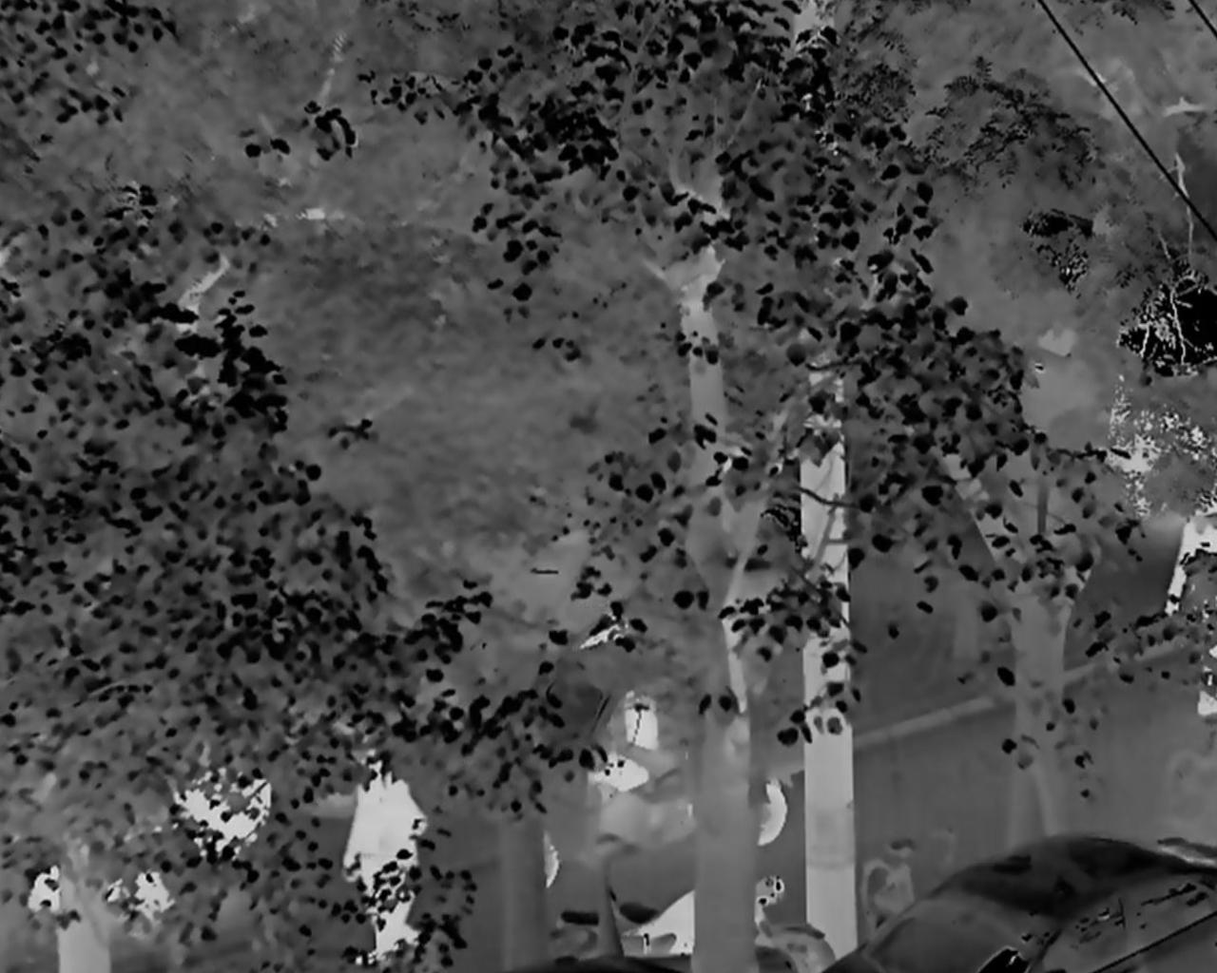person: (357, 778, 426, 966), (340, 753, 396, 965), (1165, 486, 1217, 714)
